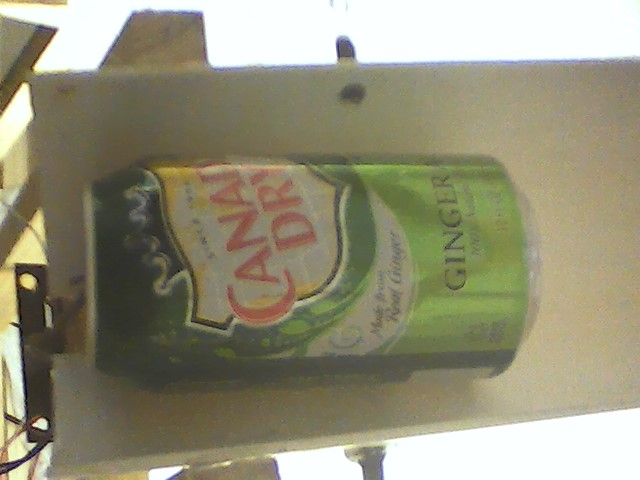lata: (80, 148, 544, 400)
